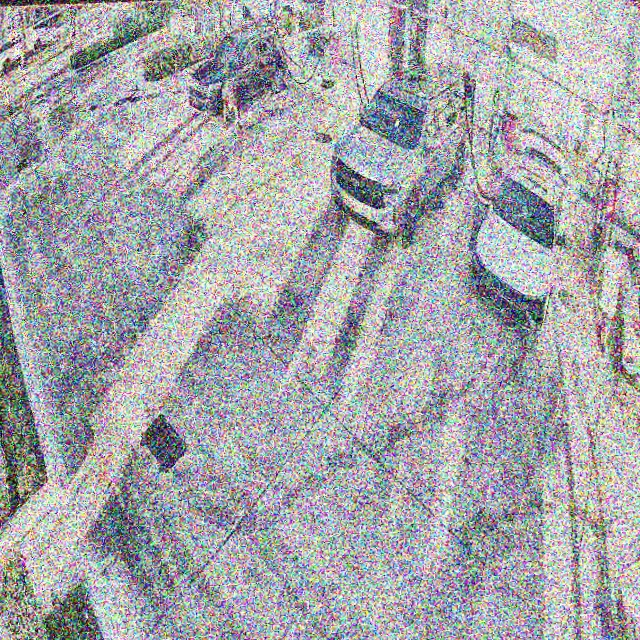Car: (328, 60, 477, 244), (469, 135, 575, 332)
